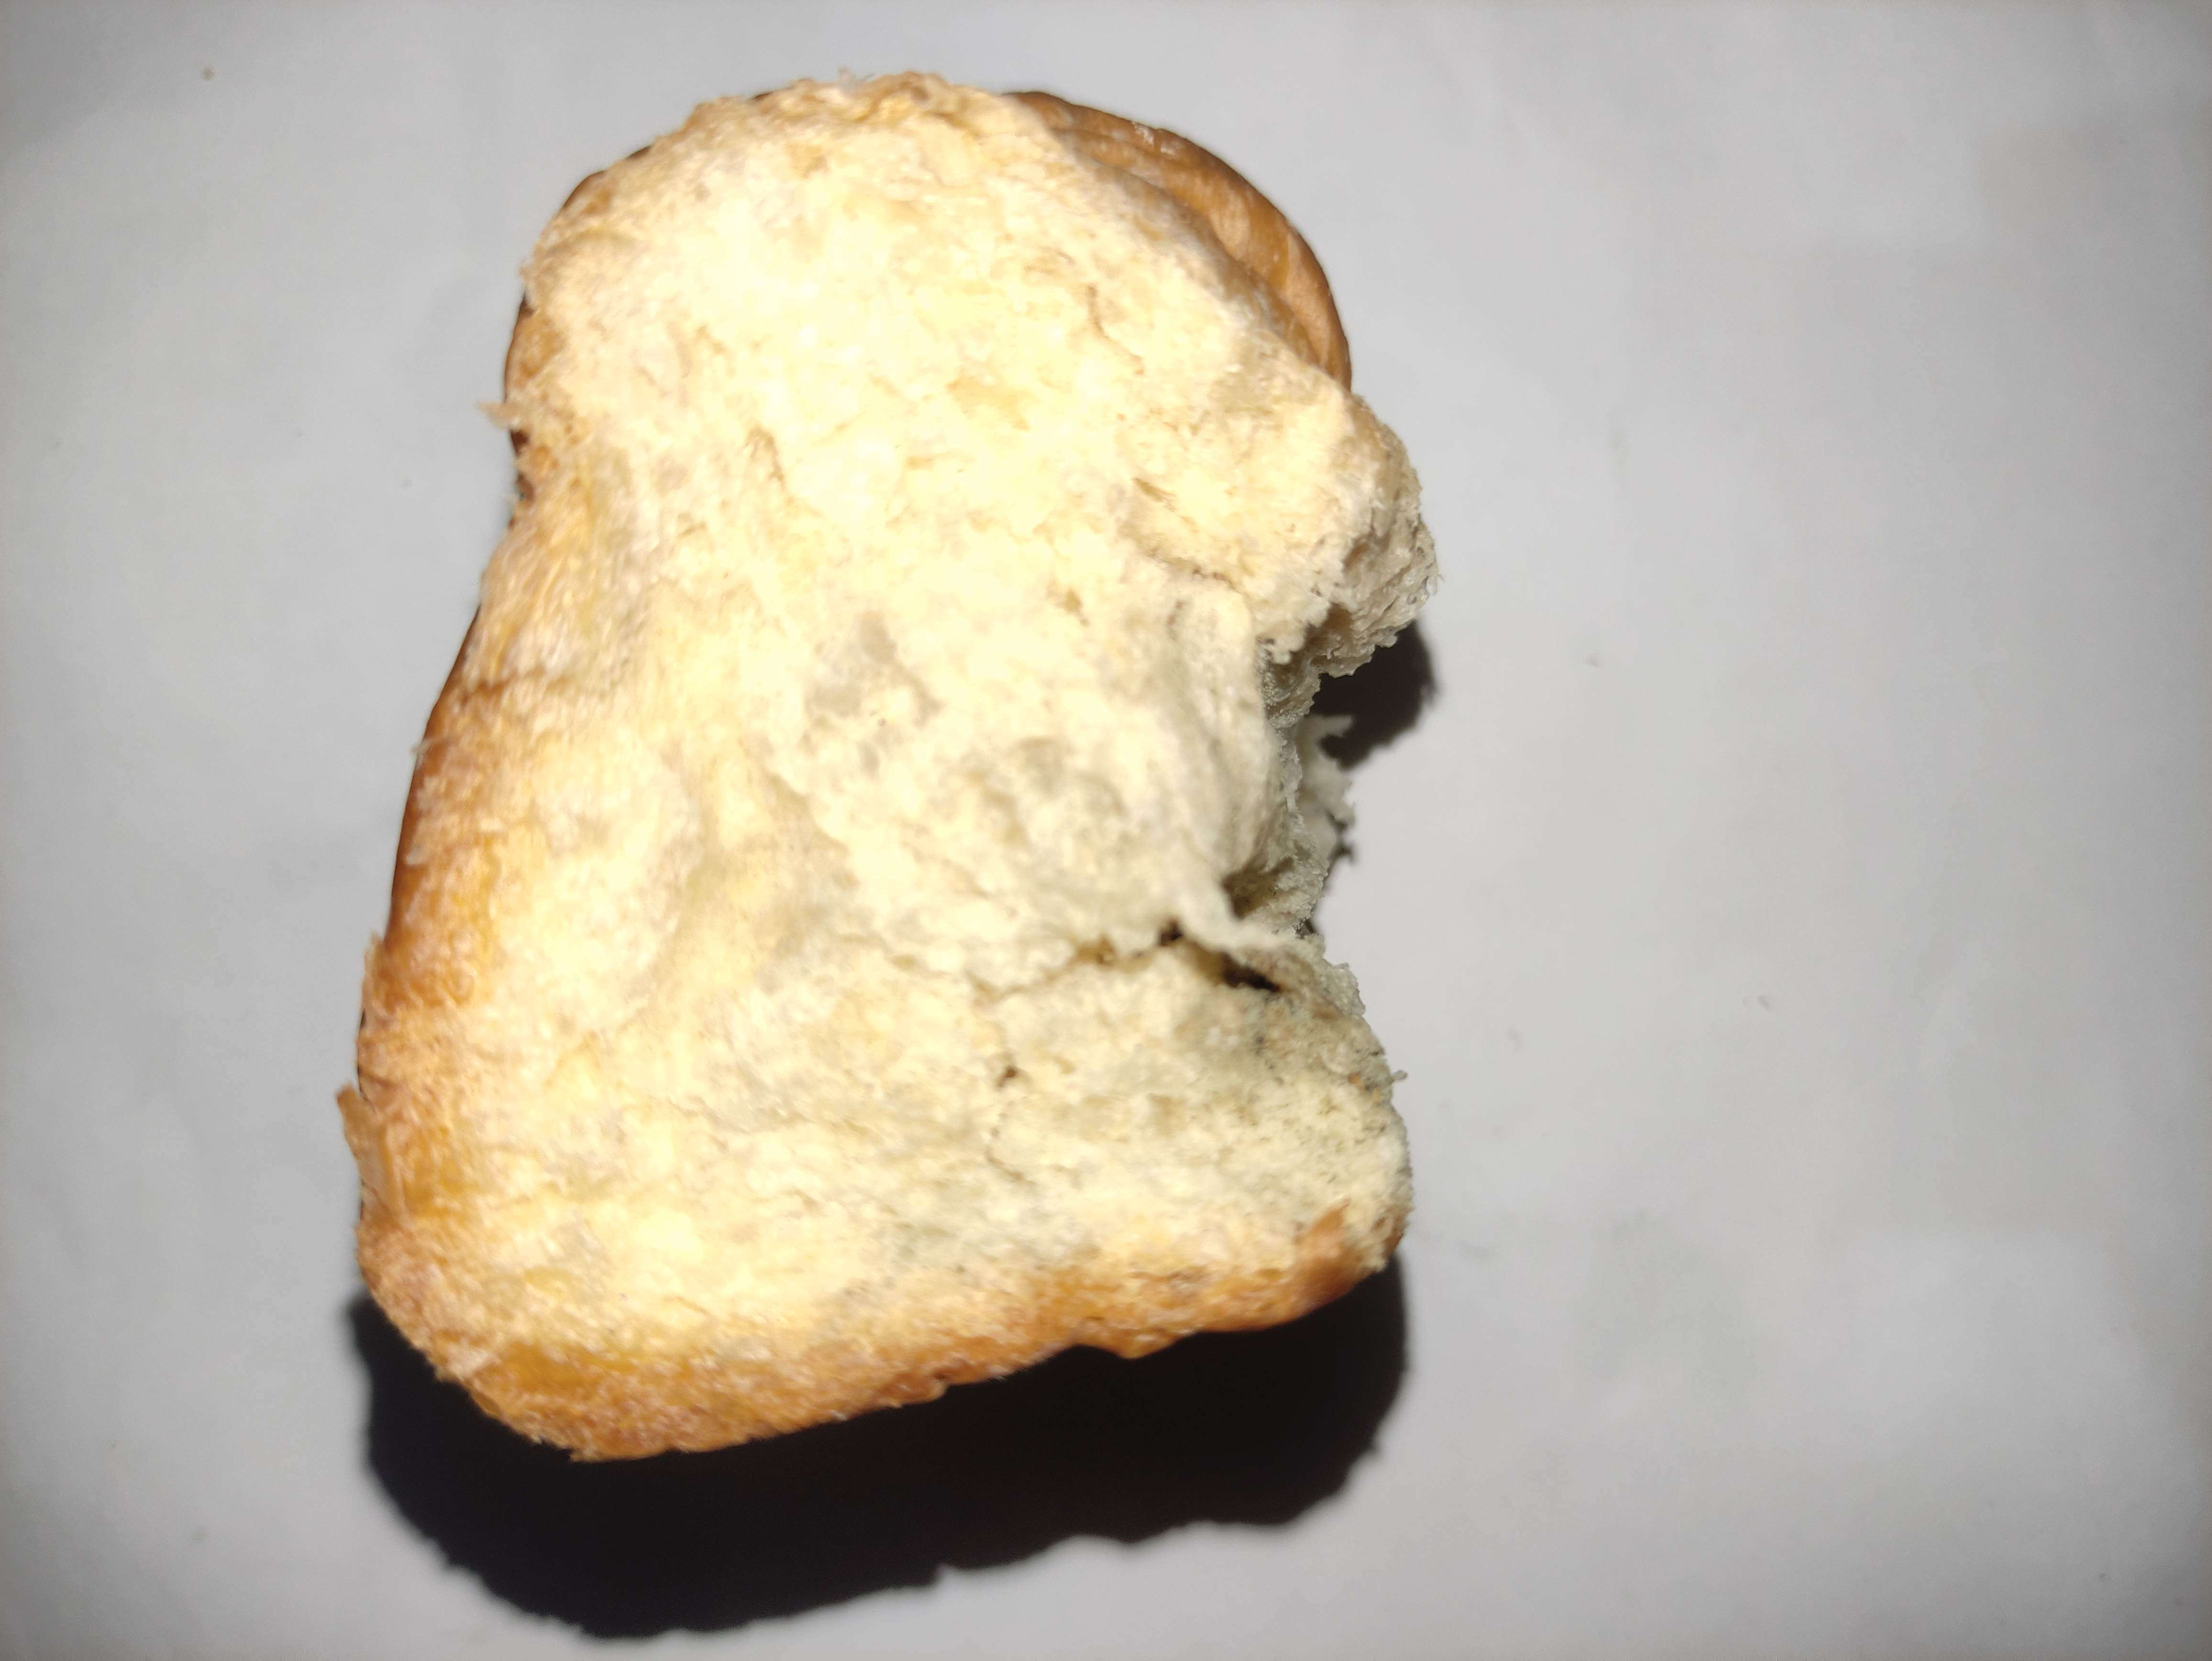mold_bread: (1188, 954, 1366, 1061), (1223, 747, 1340, 906), (1251, 623, 1335, 726)
